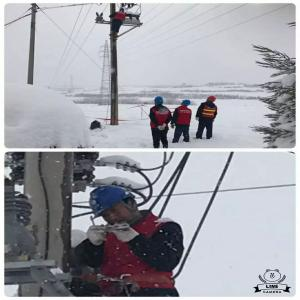blue: (89, 186, 141, 229), (155, 97, 165, 107), (182, 100, 192, 107), (120, 9, 126, 14)
red: (207, 96, 217, 104)
